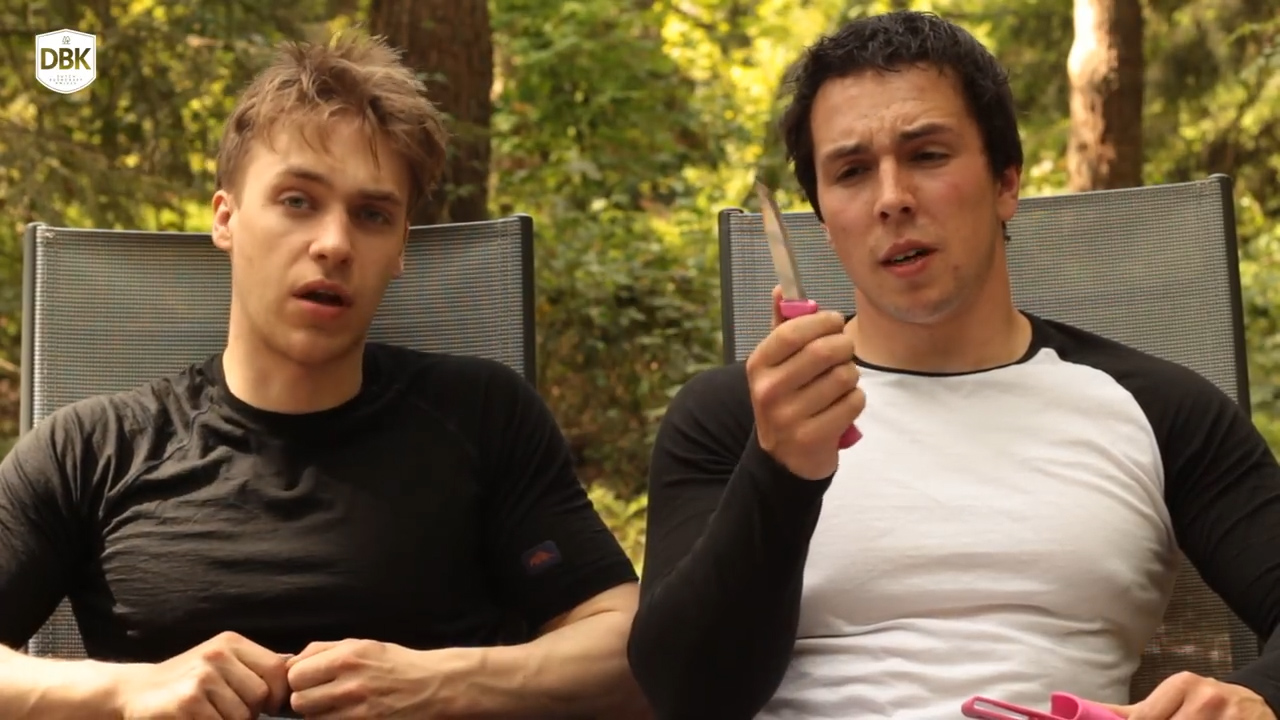knife: (747, 165, 870, 457)
